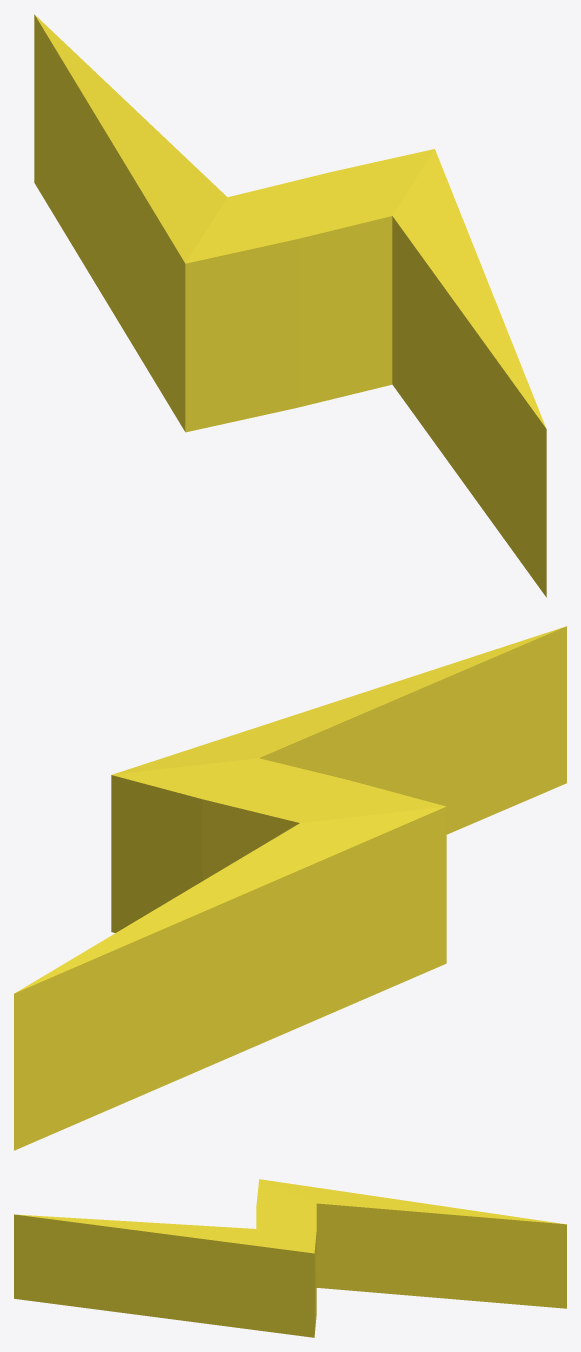
3 renders of one model, top to bottom at view 1: azimuth 30°, elevation 25°; view 2: azimuth 150°, elevation 25°; view 3: azimuth 270°, elevation 25°, orthographic. The views are drawn at different scales.
Parts seen in each view (by area): view 1: mesh_565723683; view 2: mesh_565723683; view 3: mesh_565723683.
Part boxes in pixels (x1=…): mesh_565723683: x1=34, y1=14, x2=546, y2=597; mesh_565723683: x1=14, y1=626, x2=566, y2=1150; mesh_565723683: x1=14, y1=1179, x2=566, y2=1337.
Size of the model in its own units: 45.38 by 26 by 143.
